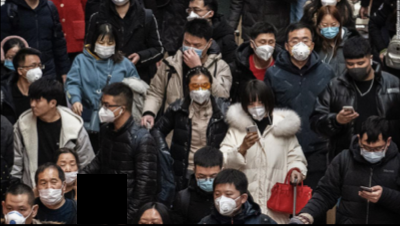mask_weared_incorrect: (56, 158, 78, 185)
with_mask: (211, 188, 240, 217), (35, 176, 63, 206), (288, 35, 312, 61), (345, 59, 372, 82), (361, 141, 387, 164), (3, 203, 32, 223), (188, 80, 212, 104), (195, 170, 221, 192), (254, 36, 276, 61), (181, 38, 206, 59), (246, 97, 268, 120), (96, 99, 116, 124), (93, 38, 116, 59), (318, 20, 341, 40), (25, 60, 43, 84), (184, 5, 207, 22), (3, 52, 16, 72)
without_mask: (28, 96, 48, 117)
